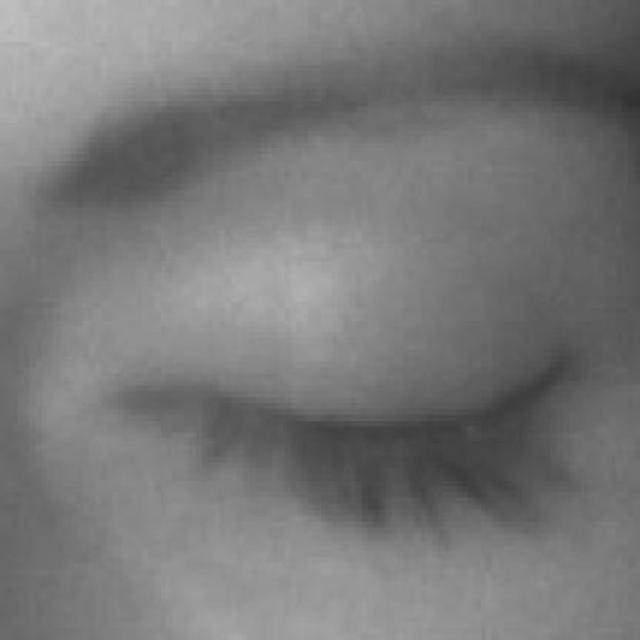drowsy: (130, 204, 581, 639)
